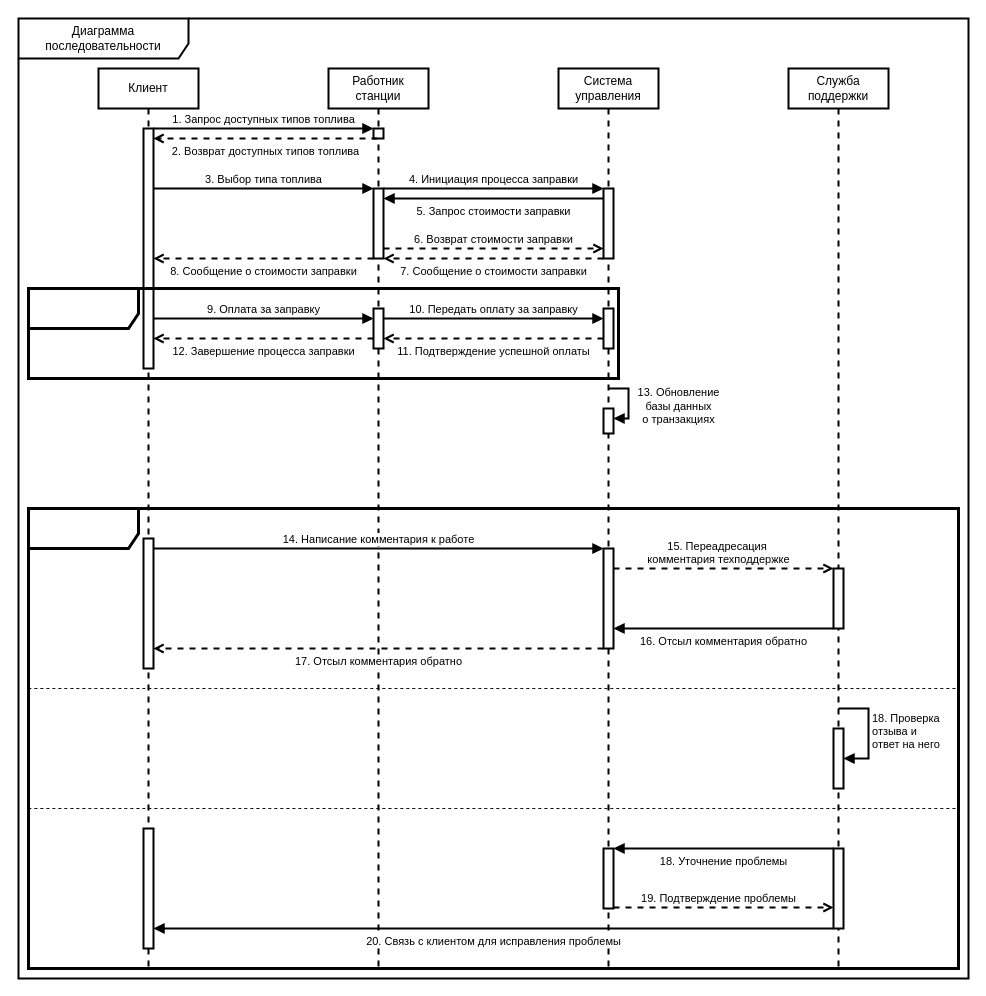
The diagram is 986 pixels wide and 996 high, and some of its shapes have lost their labels. Each missing label, with the box of its shape:
alt Получение отзыва за работу: (26, 506, 960, 970)
opt Ввод ценового сегмента: (26, 286, 620, 380)
